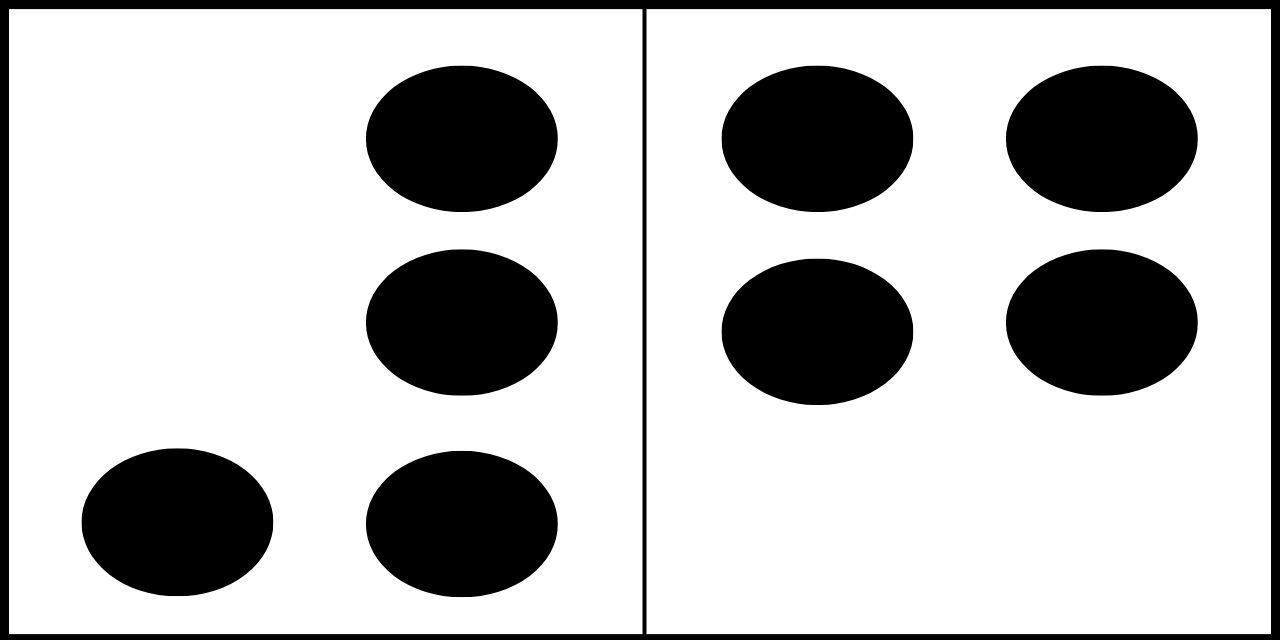digit_7: (718, 66, 1199, 599)
number_sign: (83, 65, 558, 597)
